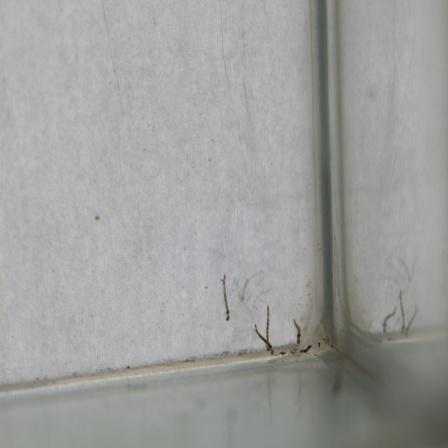Jentik-Nyamuk: (252, 303, 278, 356), (290, 314, 313, 356), (218, 269, 233, 325)
